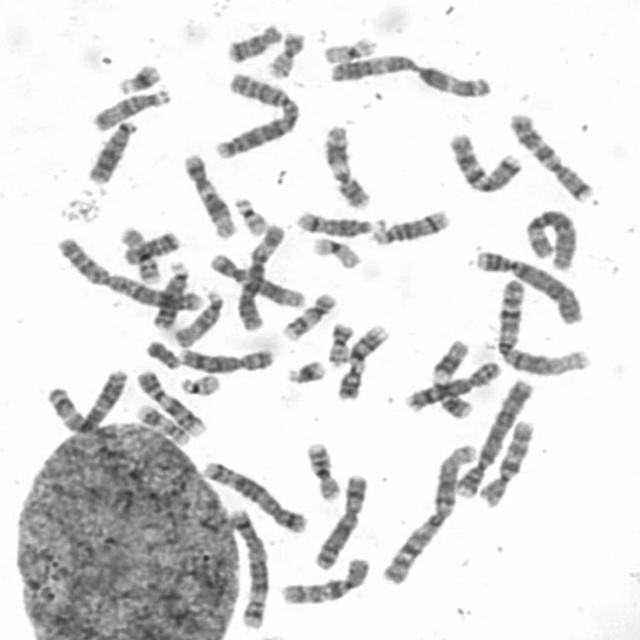A1: (378, 436, 480, 587), (492, 272, 592, 378)
A2: (52, 231, 205, 313), (208, 67, 302, 160)
A3: (323, 48, 495, 100), (40, 364, 130, 436)
B4: (450, 372, 536, 500), (470, 244, 588, 327)
B5: (199, 455, 312, 535), (225, 504, 273, 630)
C10: (474, 414, 538, 508), (276, 551, 374, 606)
C11: (319, 119, 373, 210), (429, 334, 477, 418)
C12: (206, 248, 308, 309), (179, 147, 239, 240)
C6: (233, 219, 287, 333), (520, 204, 582, 271)
C7: (504, 106, 596, 204), (444, 127, 524, 195)
C8: (402, 356, 505, 413), (174, 341, 278, 374)
C9: (132, 364, 208, 438), (333, 318, 392, 402)
D13: (82, 115, 140, 186), (146, 257, 191, 330)
D14: (368, 204, 453, 247), (292, 205, 384, 238)
D15: (87, 83, 174, 133), (170, 284, 226, 348)
E16: (115, 221, 165, 286), (302, 437, 344, 502)
E17: (278, 287, 338, 342), (132, 398, 192, 447)
E18: (222, 17, 284, 64), (120, 226, 182, 265)
F19: (307, 232, 365, 271), (319, 32, 379, 65)
F20: (263, 26, 308, 80), (323, 317, 356, 368)
G21: (112, 58, 164, 95), (281, 354, 329, 386)
G22: (230, 192, 271, 236), (175, 368, 223, 397)
X: (308, 468, 371, 572)
Y: (142, 335, 183, 370)
